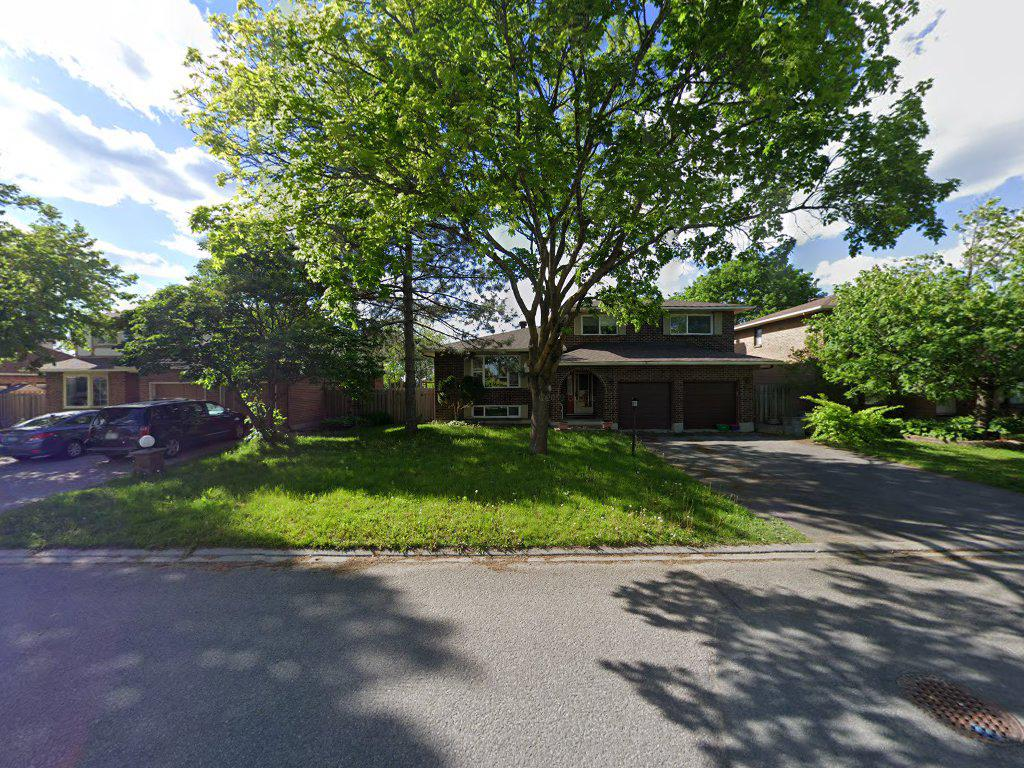trunk: (532, 325, 557, 457)
